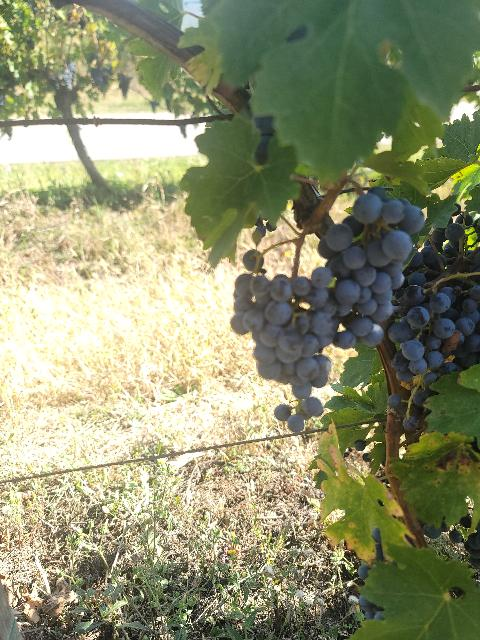grapes: (230, 250, 338, 432), (325, 189, 424, 348)
